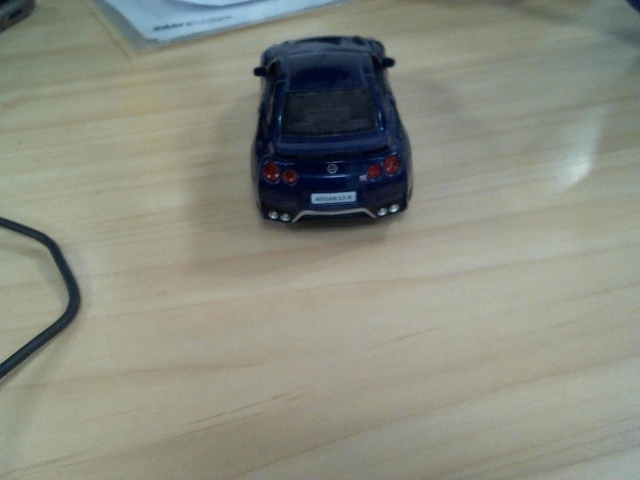car: (251, 35, 414, 224)
